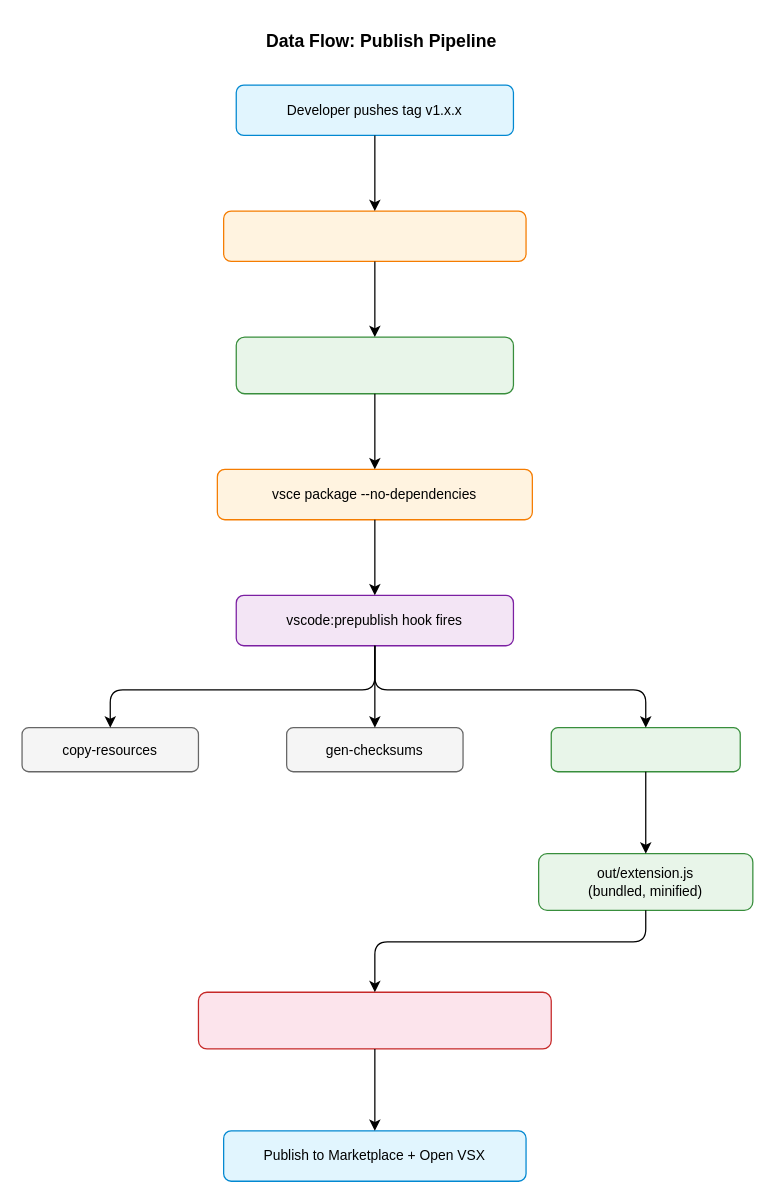
Image size: 775x1203. Some labels were removed from this diagram. The shapes that lost their labels are listed below. From the top down, each one's centre as x and y in pixels, then its label:
At point (374, 235): "GitHub Actions triggers publish.yml".
At point (374, 365): "npm ci (installs esbuild + deps)".
At point (645, 749): "esbuild-production".
At point (374, 1020): ".vsix created (excludes node_modules, src, esbuild.js)".
